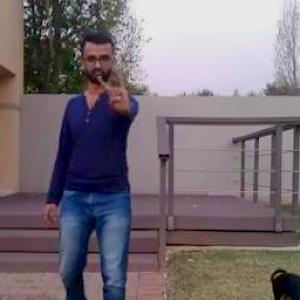takeoff-hand: (93, 58, 136, 114)
